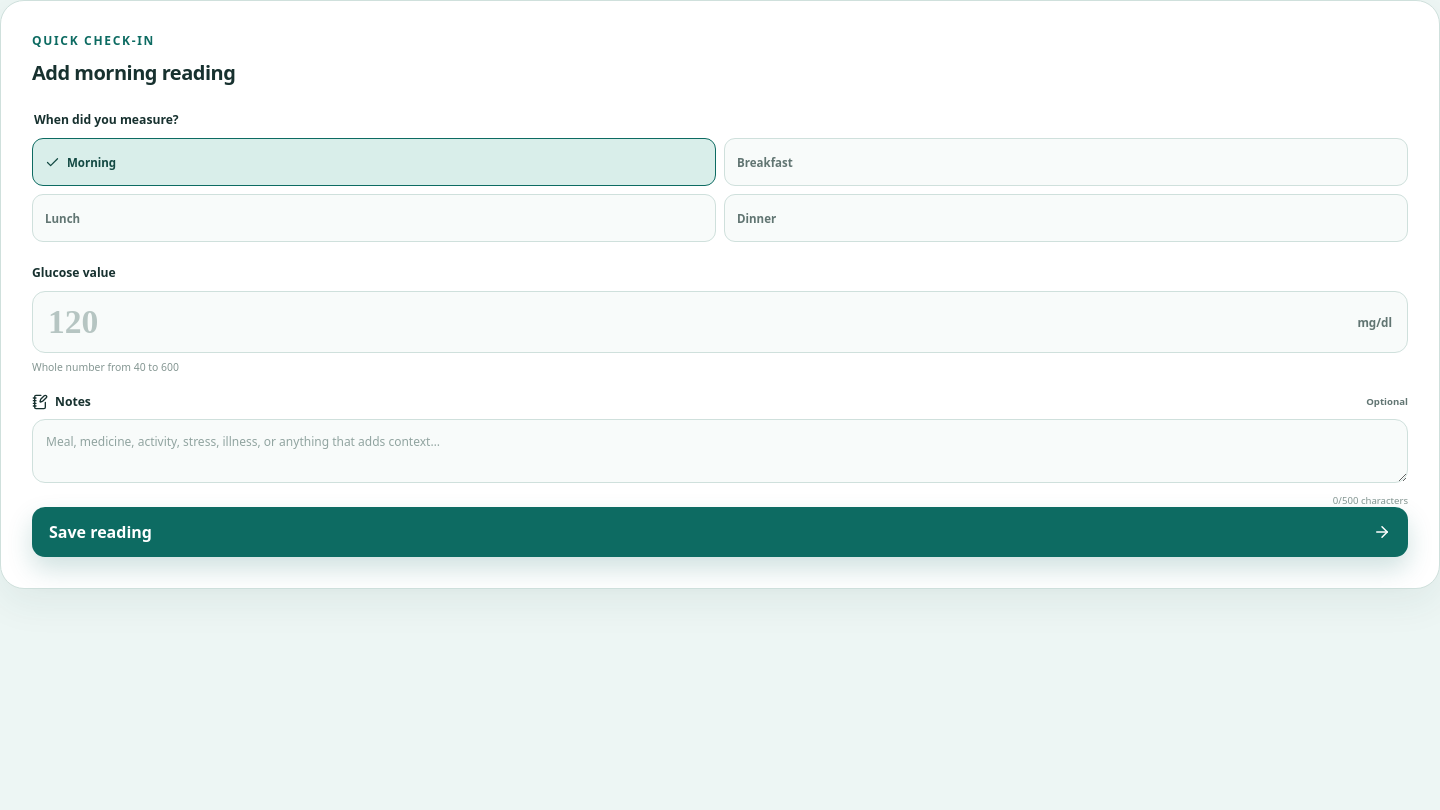
Test: ReadingForm › shows the required-value message without sending a request
The image size is (1440, 810).
Click the button "Save reading" at (100, 532), box [32, 507, 1408, 557]
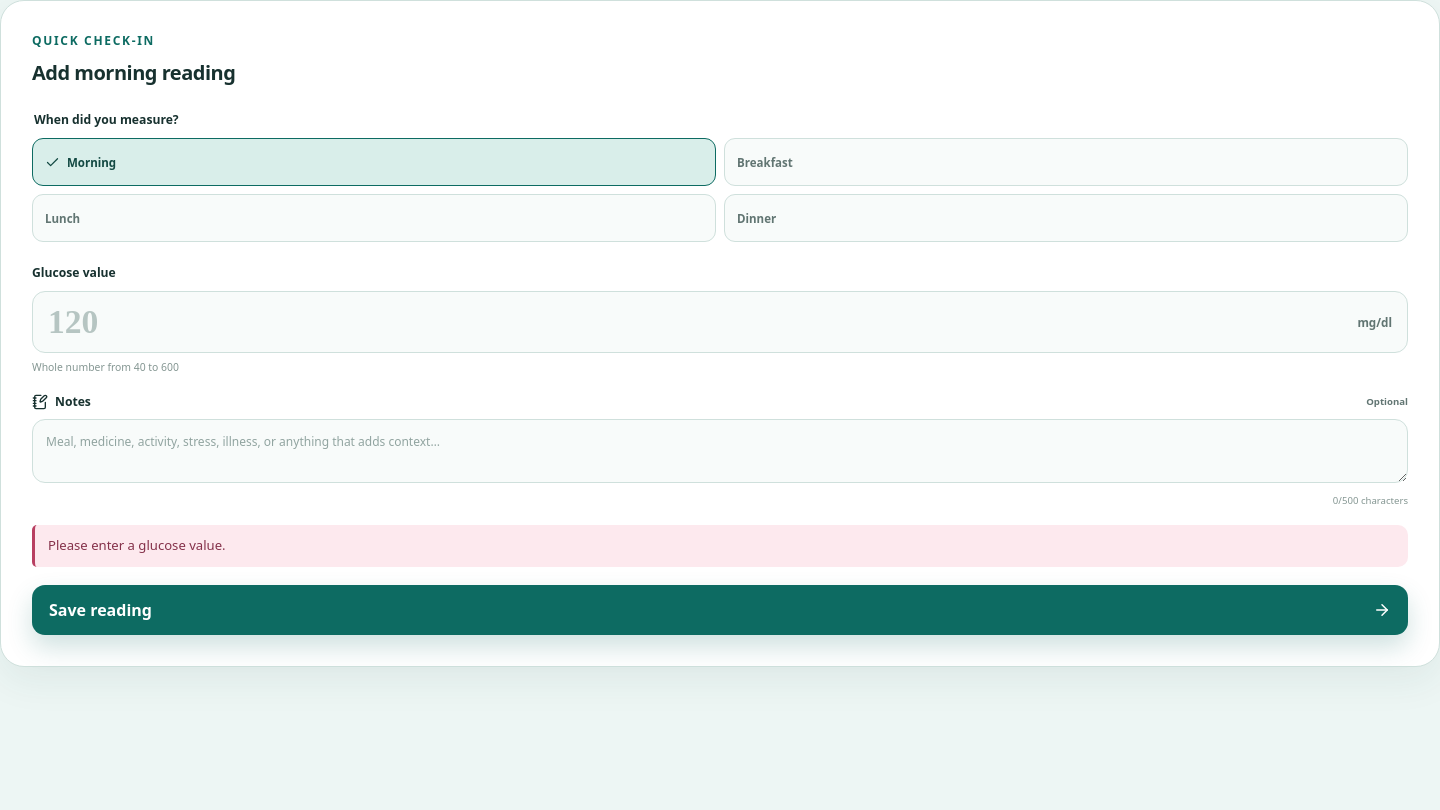
Result: the message reads "Please enter a glucose value." at [48, 536, 226, 554]
